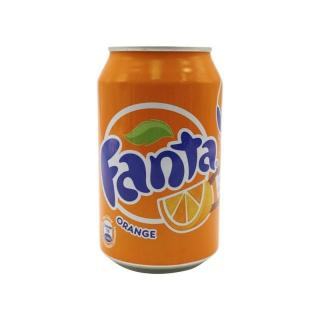Anorganik: (91, 36, 228, 277)
